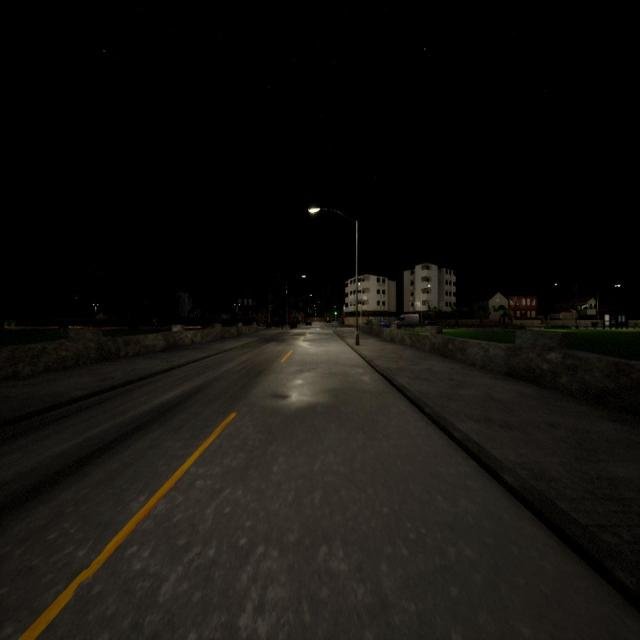Vehicle: (393, 314, 419, 328), (305, 320, 312, 326)
traffic_light: (334, 308, 337, 316)
